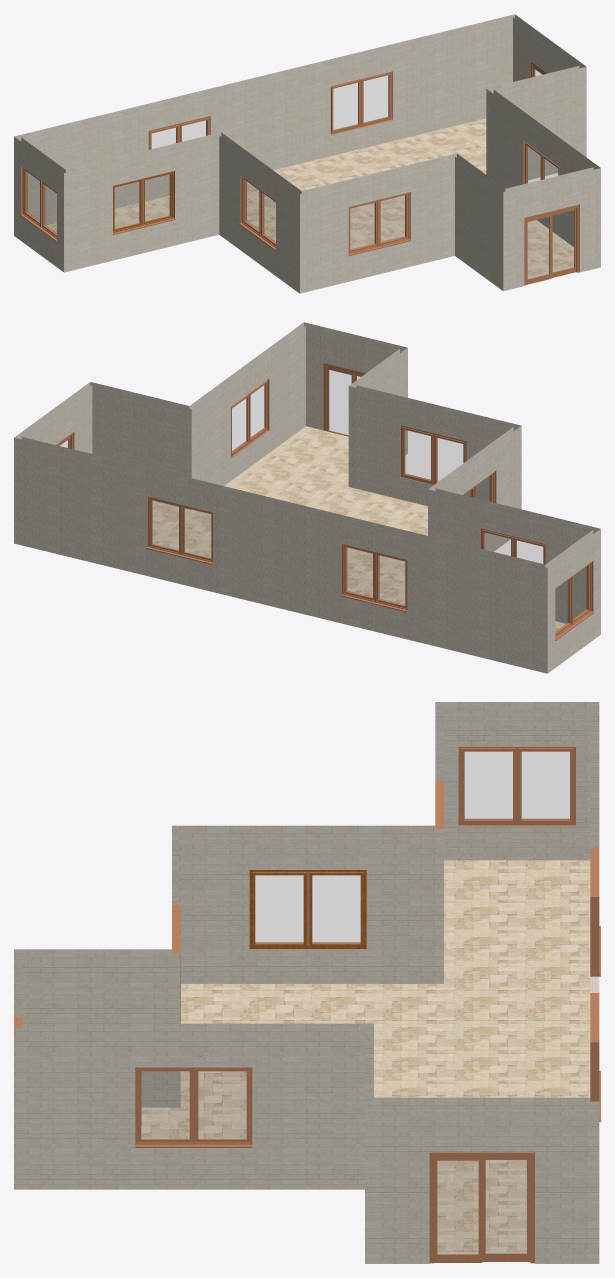
File: telhado37a.glb
The picture shows the model from 3 angles, top to bottom: view 1: azimuth 30°, elevation 25°; view 2: azimuth 150°, elevation 25°; view 3: azimuth 270°, elevation 25°; orthographic projection. The views are drawn at different scales.
Parts seen in each view (by area): view 1: object 4, root, object 3, object 2; view 2: object 4, root, object 3, object 2; view 3: object 4, root, object 3, object 2.
Part boxes in pixels (x1,y1,x2,y2): object 4: [14, 14, 600, 293]; root: [47, 118, 573, 278]; object 3: [27, 69, 573, 278]; object 2: [20, 61, 579, 285]; object 4: [14, 322, 600, 673]; root: [152, 426, 565, 631]; object 3: [60, 370, 586, 631]; object 2: [56, 363, 594, 640]; object 4: [14, 702, 599, 1263]; root: [141, 860, 590, 1253]; object 3: [141, 752, 569, 1253]; object 2: [14, 746, 600, 1263].
Bounding box in the file's own units: 16.18 × 3.06 × 10.03.
Materials: 6 (4 with a texture image).
